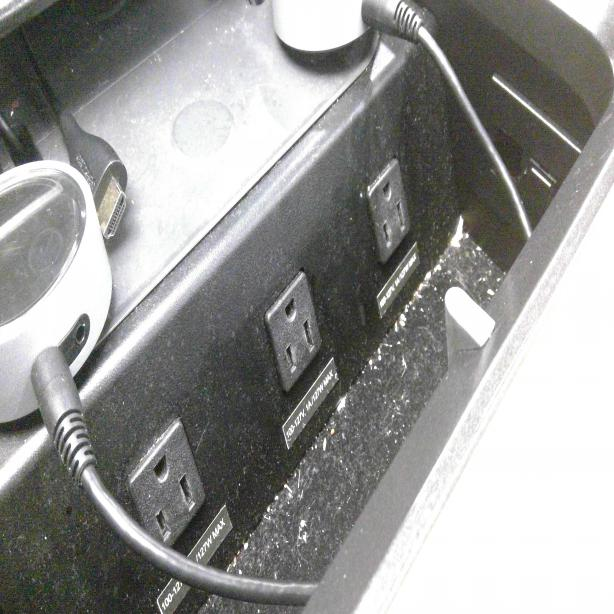typeb: (136, 447, 198, 533), (265, 292, 318, 367), (369, 178, 408, 249)
